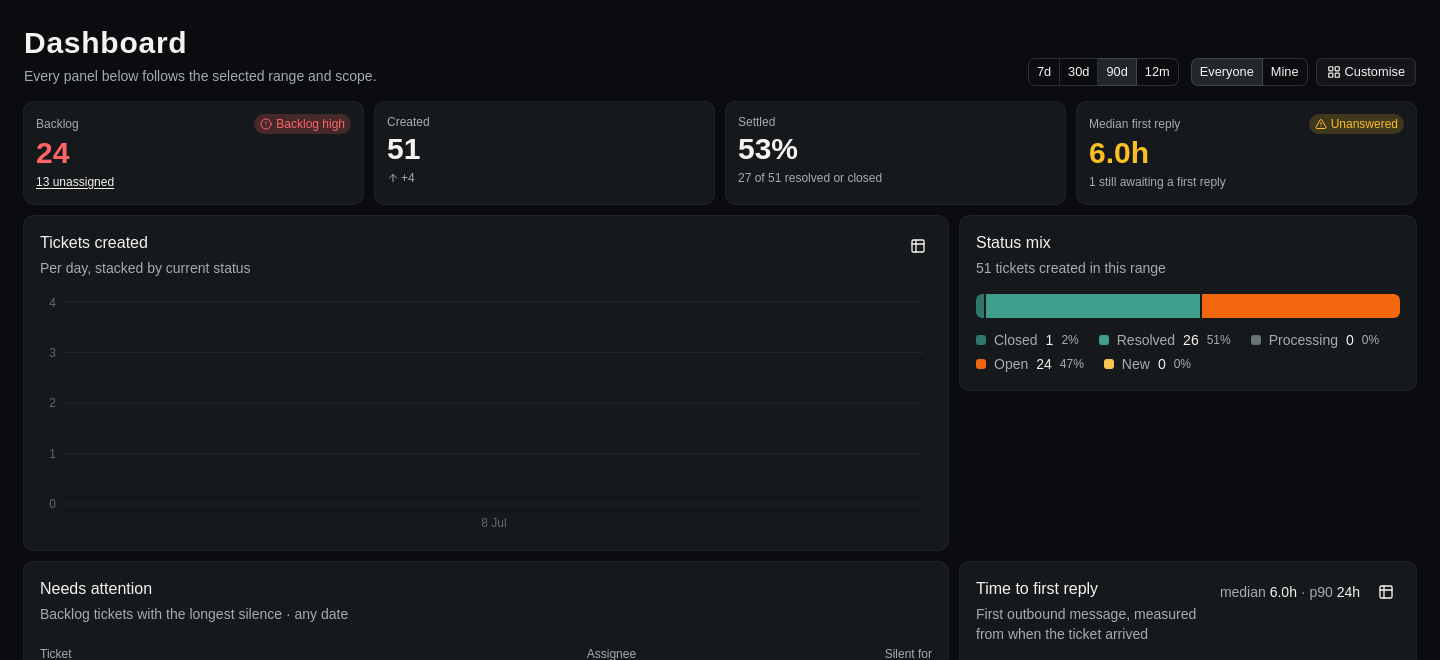
Test: DashboardPage customize mode › hides the per-panel controls until customize mode is entered
Expected: the text "Tickets created" is shown, [40, 234, 148, 250]
Click the button "Customise" at {"x": 1366, "y": 72}, box [1316, 58, 1416, 86]
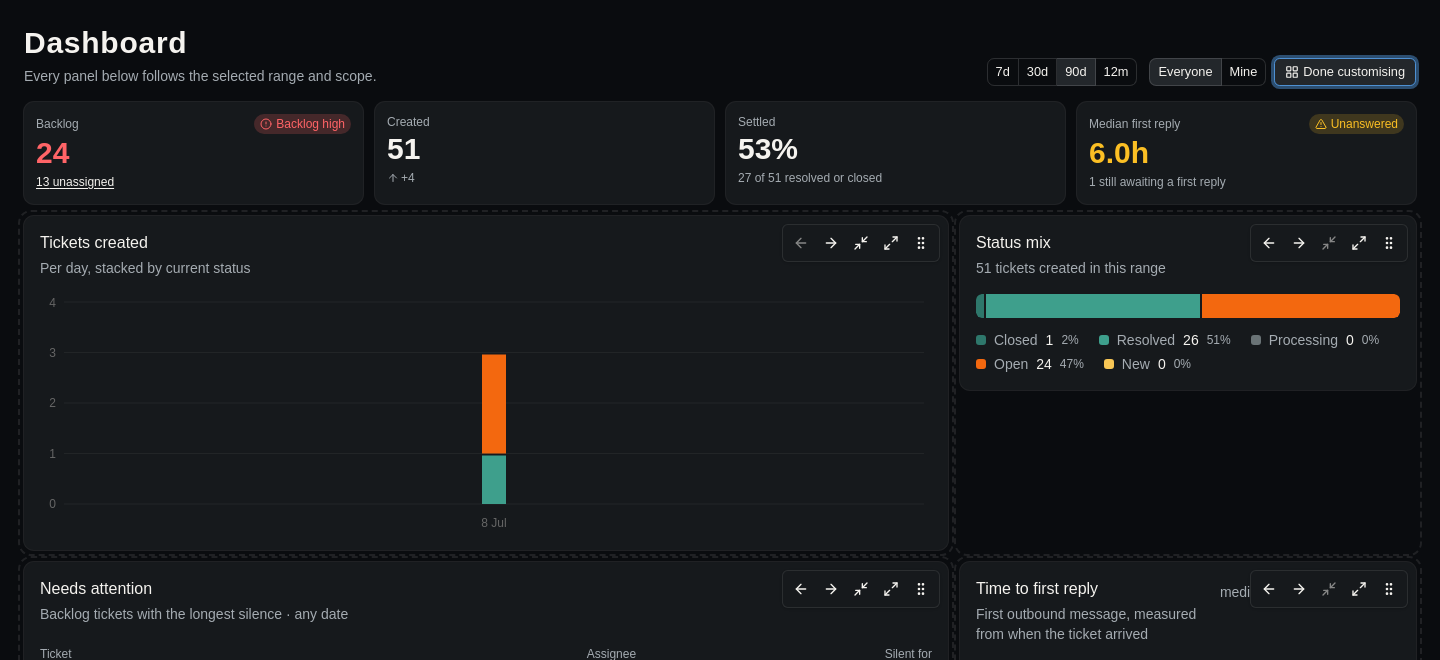
Now the button named "Move Ticket volume later" is shown, box [817, 228, 845, 256]
